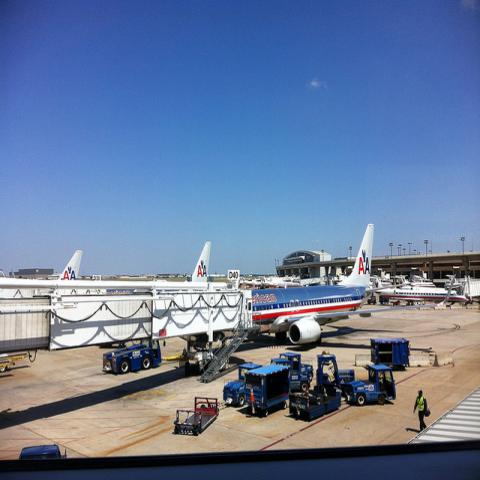truck: (174, 363, 262, 436), (289, 354, 343, 422), (243, 363, 292, 418), (346, 360, 396, 406), (102, 340, 162, 374), (19, 442, 68, 458)
